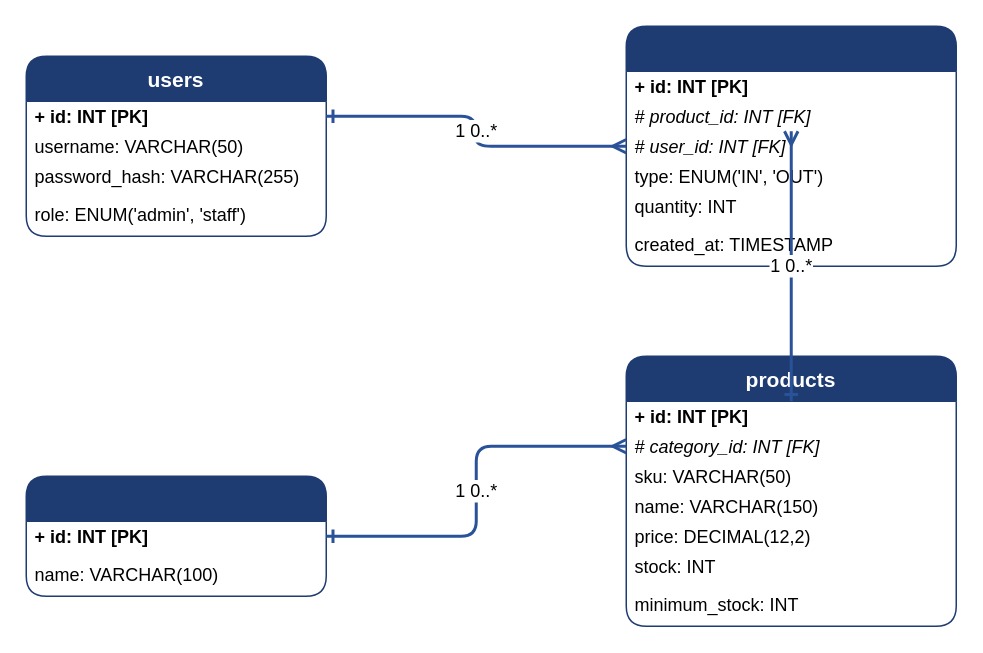
The diagram is 983 pixels wide and 653 high, and some of its shapes have lost their labels. Each missing label, with the box of its shape:
categories: (25, 475, 326, 596)
stock_movements: (625, 25, 956, 266)
